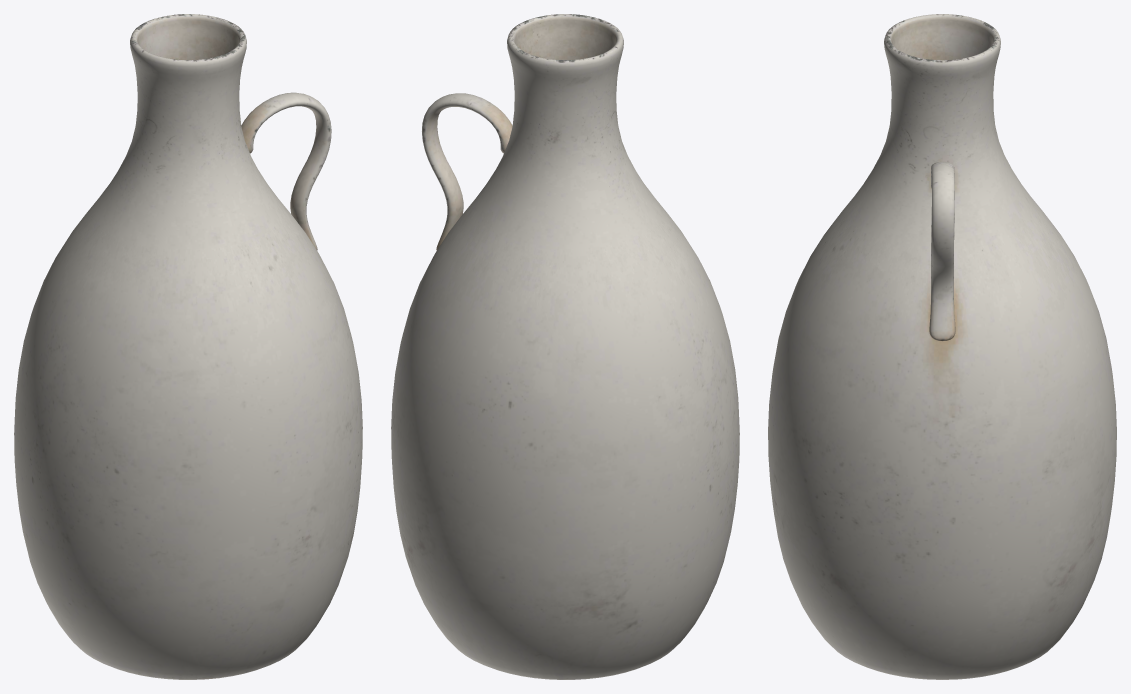
Rendered from ceramic_vase_04_4k-v1.glb.
The picture shows the model from 3 angles, left to right: view 1: azimuth 30°, elevation 25°; view 2: azimuth 150°, elevation 25°; view 3: azimuth 270°, elevation 25°; orthographic projection.
Visible parts, largest first — view 1: ceramic_vase_04; view 2: ceramic_vase_04; view 3: ceramic_vase_04.
Boxes of the visible parts, x1,y1,x2,y2 form: ceramic_vase_04: [14, 14, 362, 679]; ceramic_vase_04: [391, 14, 739, 679]; ceramic_vase_04: [768, 14, 1116, 679].
Size of the model in its own units: 0.1811 by 0.3419 by 0.1811.
1 material, 1 textured.
